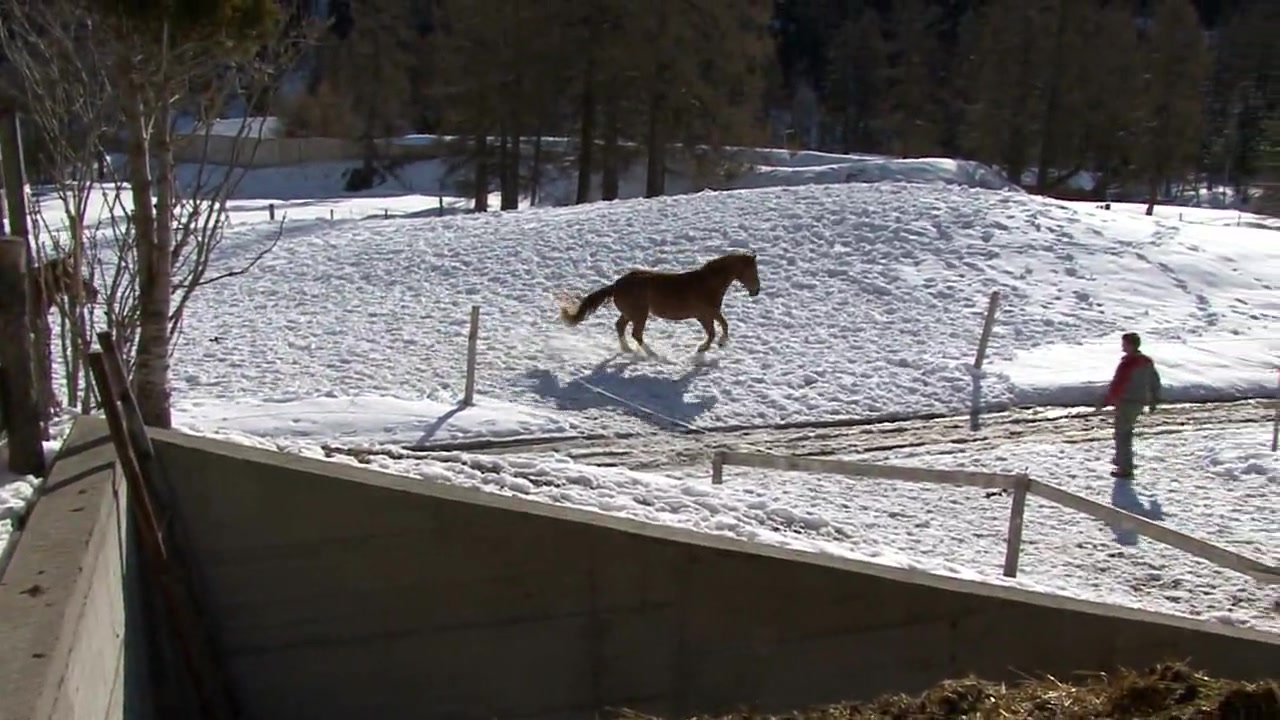horse: (560, 247, 765, 362)
